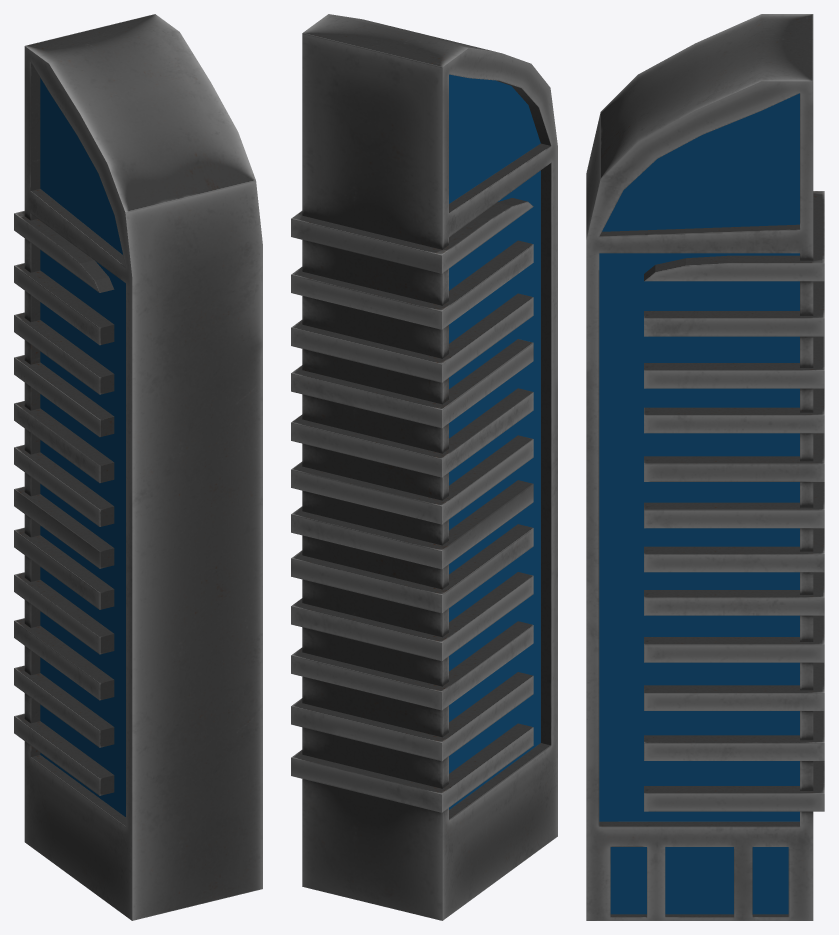
The model's file is Building.fbx.
The picture shows the model from 3 angles, left to right: view 1: azimuth 30°, elevation 25°; view 2: azimuth 150°, elevation 25°; view 3: azimuth 270°, elevation 25°; orthographic projection. The views are drawn at different scales.
Parts seen in each view (by area): view 1: Cube.008; view 2: Cube.008; view 3: Cube.008.
Boxes of the visible parts, x1,y1,x2,y2 form: Cube.008: [14, 14, 262, 920]; Cube.008: [291, 14, 557, 920]; Cube.008: [586, 14, 824, 920].
Bounding box in the file's own units: 491 × 2655 × 684.
Materials: 1 (1 with a texture image).
